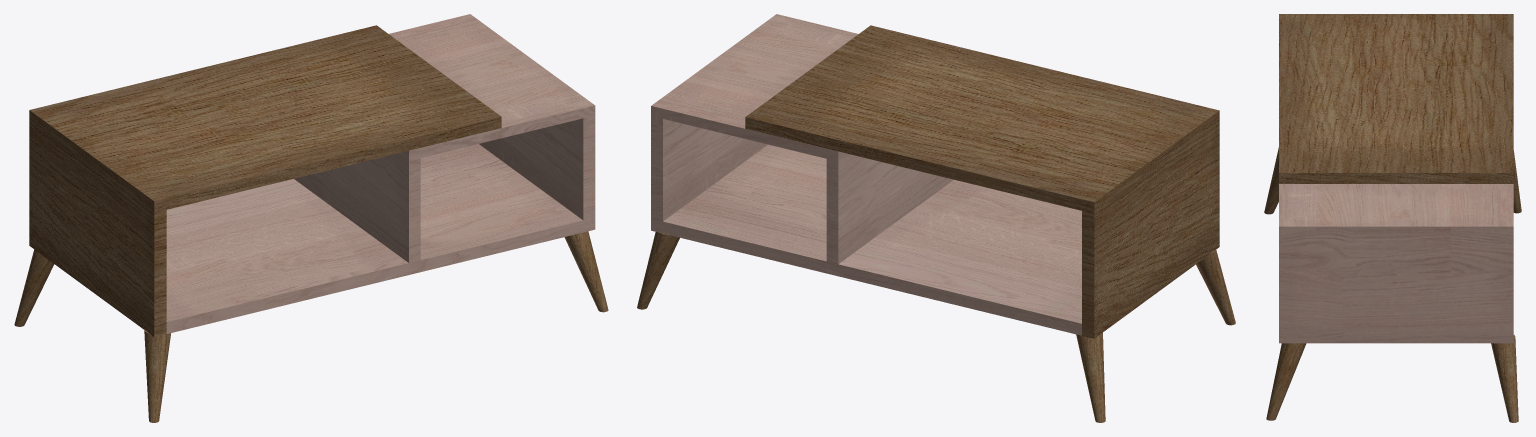
File: Coffee_Table.fbx
3 views of the same model, side by side, from view 1: azimuth 30°, elevation 25°; view 2: azimuth 150°, elevation 25°; view 3: azimuth 270°, elevation 25° (orthographic). The views are drawn at different scales.
Parts seen in each view (by area): view 1: Coffe_Table; view 2: Coffe_Table; view 3: Coffe_Table.
Part boxes in pixels (x1,y1,x2,y2): Coffe_Table: [14, 14, 608, 422]; Coffe_Table: [637, 14, 1235, 422]; Coffe_Table: [1264, 14, 1521, 422].
Bounding box in the file's own units: 437 × 192 × 223.
